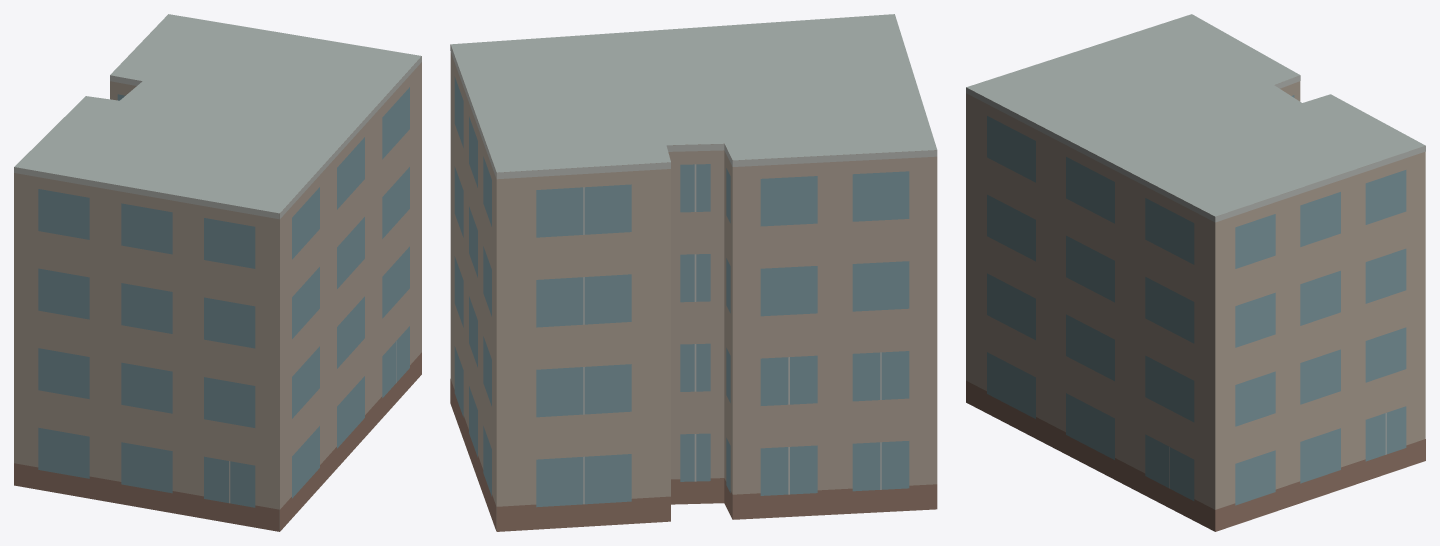
Rendered from survey-upis-33027676.glb.
3 views of the same model, side by side, from view 1: azimuth 30°, elevation 25°; view 2: azimuth 150°, elevation 25°; view 3: azimuth 270°, elevation 25° (orthographic). The views are drawn at different scales.
Parts seen in each view (by area): view 1: survey-upis-33027676.tmp; view 2: survey-upis-33027676.tmp; view 3: survey-upis-33027676.tmp.
Boxes of the visible parts, left/top/right/bottom form: survey-upis-33027676.tmp: left=14, top=14, right=421, bottom=531; survey-upis-33027676.tmp: left=450, top=14, right=937, bottom=531; survey-upis-33027676.tmp: left=966, top=14, right=1425, bottom=531.
Bounding box in the file's own units: 18.07 × 13.1 × 17.32.
